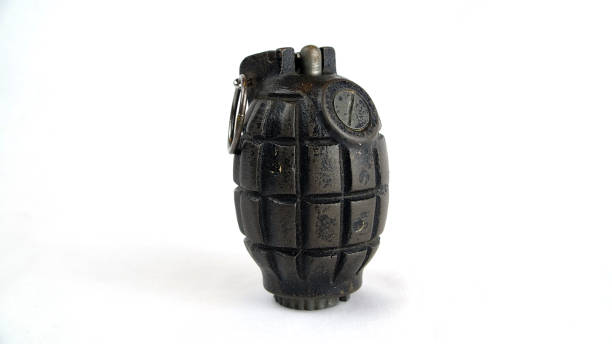e1: (227, 43, 391, 311)
